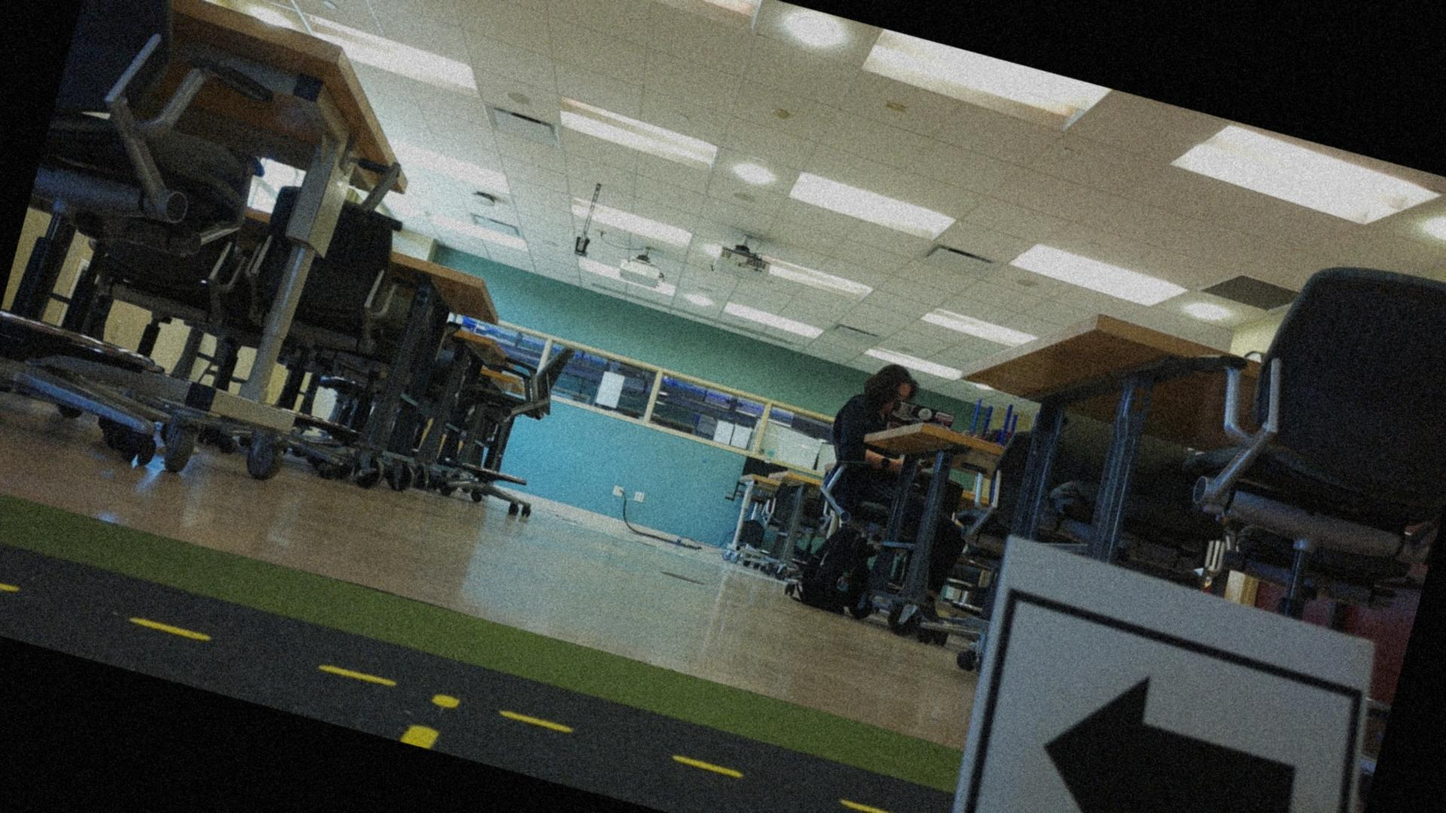turnright: (943, 599, 1365, 812)
yellowline: (0, 552, 911, 812), (395, 681, 470, 756)
